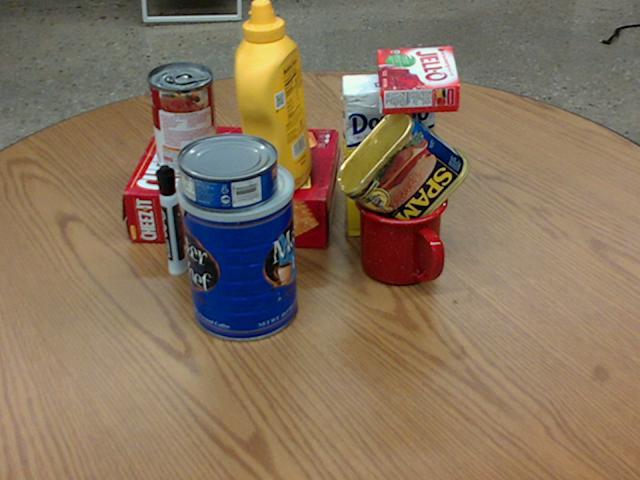cracker_box: (121, 124, 337, 248)
gelatin_box: (378, 46, 460, 112)
large_marker: (156, 166, 187, 276)
master_chef_can: (174, 153, 299, 340)
mug: (356, 175, 451, 286)
mustard_bottle: (235, 0, 311, 198)
potted_meat_can: (336, 107, 470, 237)
sugar_box: (343, 72, 437, 238)
tomato_soup_can: (147, 62, 217, 174)
tuna_fish_can: (176, 131, 277, 210)
